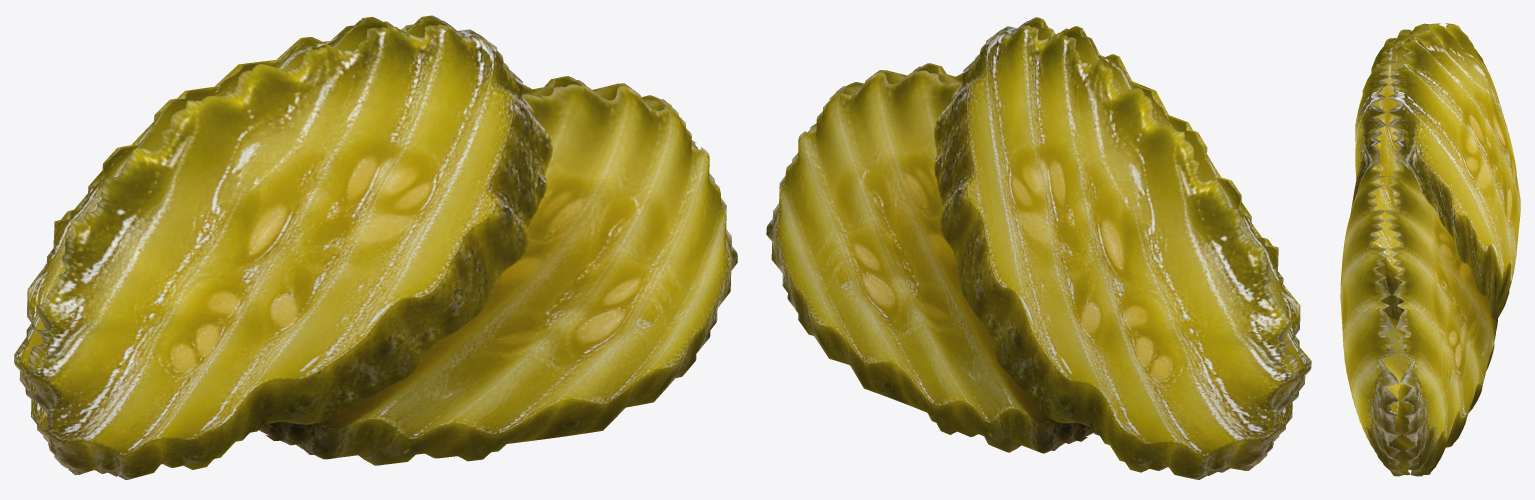
File: pepinillos.glb
3 renders of one model, left to right at view 1: azimuth 30°, elevation 25°; view 2: azimuth 150°, elevation 25°; view 3: azimuth 270°, elevation 25°, orthographic. The views are drawn at different scales.
Parts seen in each view (by area): view 1: pepinillos; view 2: pepinillos; view 3: pepinillos.
Boxes of the visible parts, <box> form: pepinillos: <box>14,15,737,479</box>; pepinillos: <box>766,17,1311,479</box>; pepinillos: <box>1340,23,1520,476</box>.
Size of the model in its own units: 1.98 by 1.37 by 0.6016.
1 material, 1 textured.
